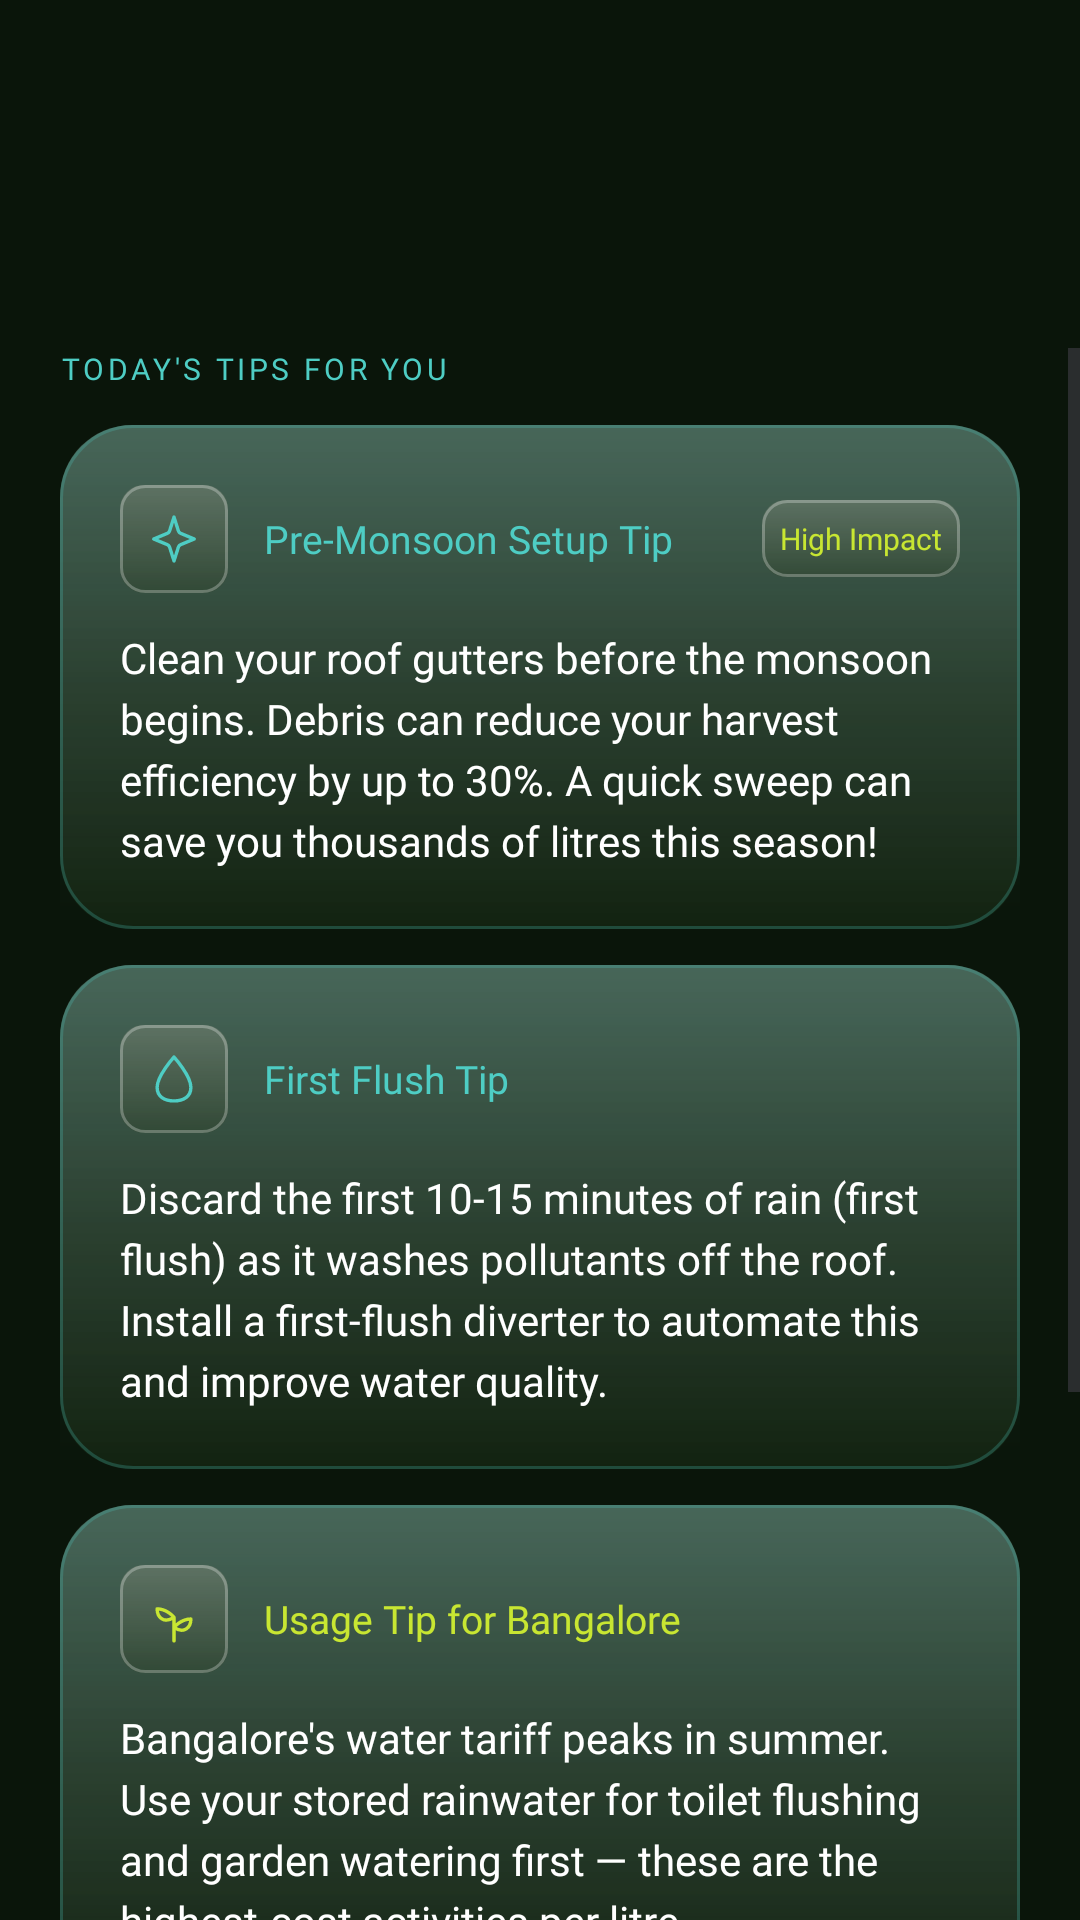

Icons on this 1080x1920 Android screen, each with the point to tap as (x=x, y=y):
drop: (x=174, y=1077)
plant: (x=174, y=1625)
sparkle: (x=174, y=537)
